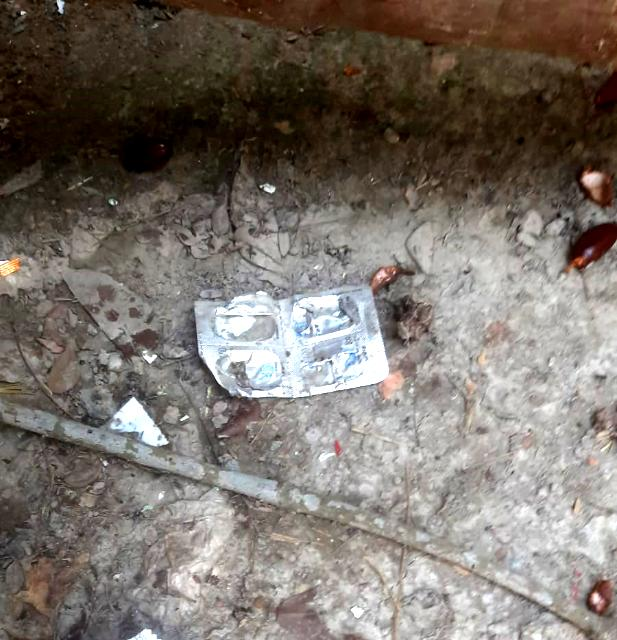medicine: (194, 280, 386, 410)
